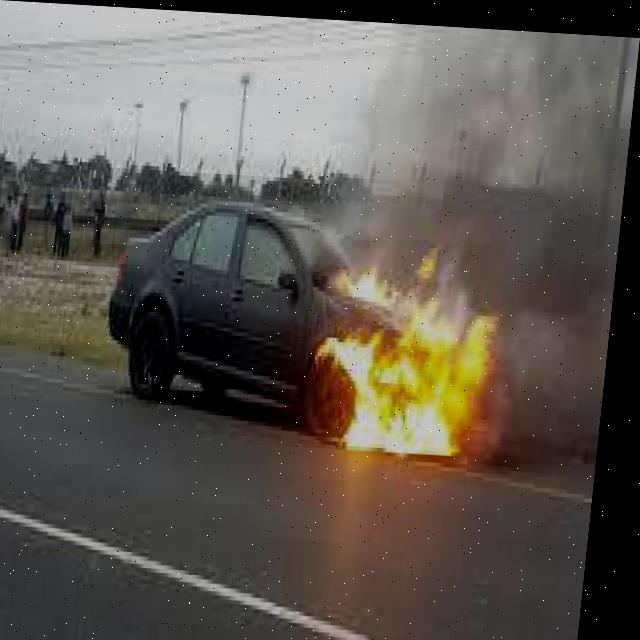Fire: (306, 244, 516, 478)
